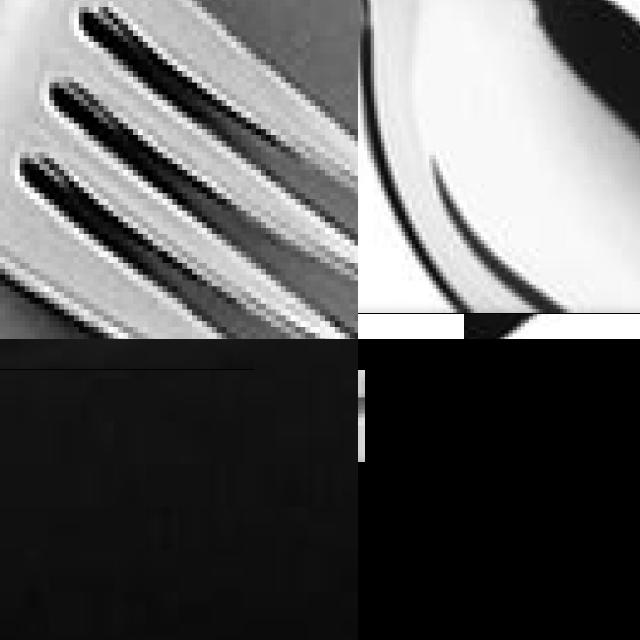forks: (0, 0, 358, 339)
spoons: (408, 0, 640, 339)
